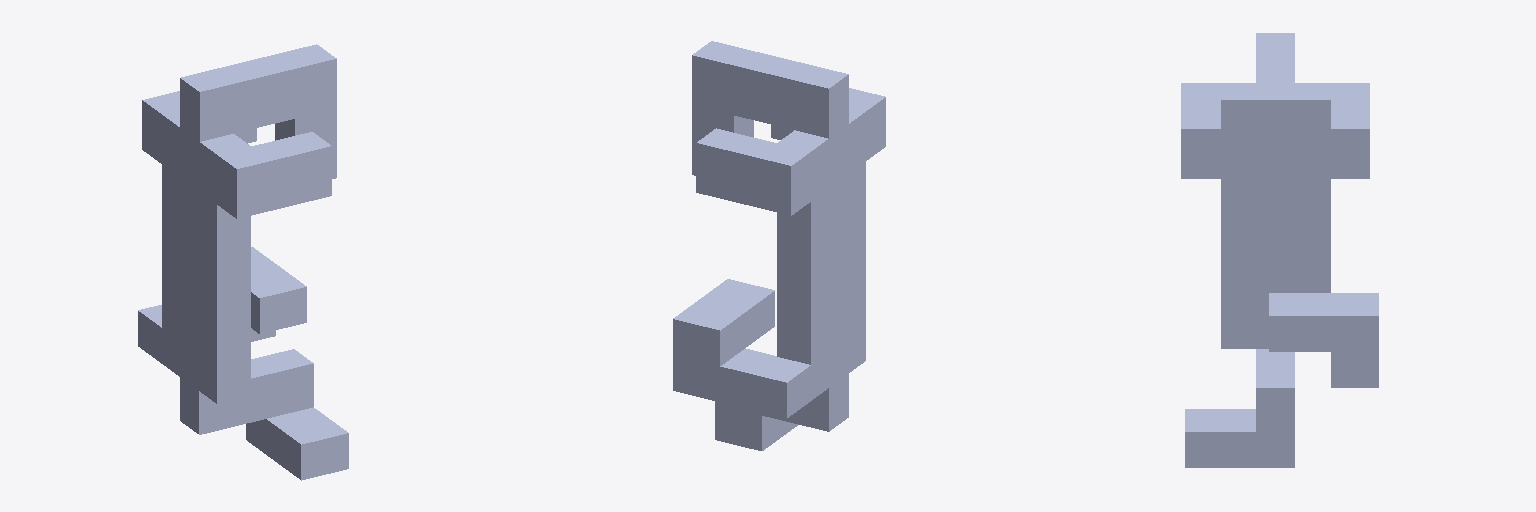
3 renders of one model, left to right at view 1: azimuth 30°, elevation 25°; view 2: azimuth 150°, elevation 25°; view 3: azimuth 270°, elevation 25°, orthographic.
Parts seen in each view (by area): view 1: mesh_1_Long-1; view 2: mesh_1_Long-1; view 3: mesh_1_Long-1.
Part boxes in pixels (bbox=[...]): mesh_1_Long-1: bbox=[138, 44, 348, 480]; mesh_1_Long-1: bbox=[673, 41, 885, 450]; mesh_1_Long-1: bbox=[1181, 33, 1378, 467].
Bounding box in the file's own units: 0.072 × 0.19 × 0.09.